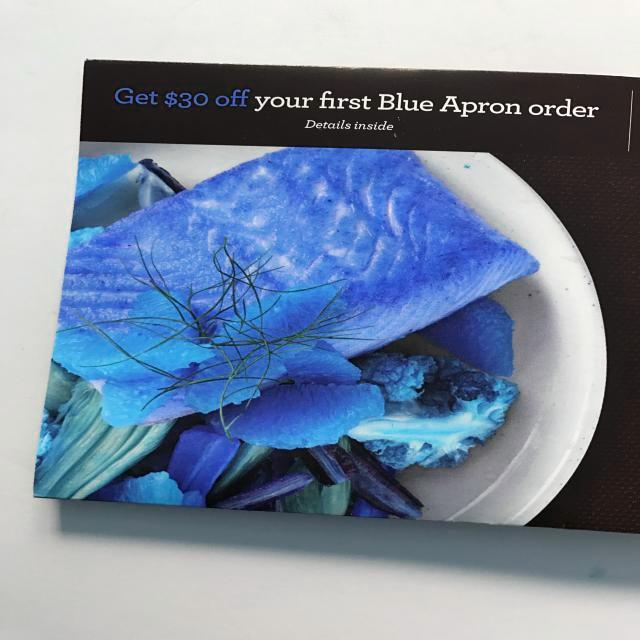paper: (32, 57, 640, 532)
